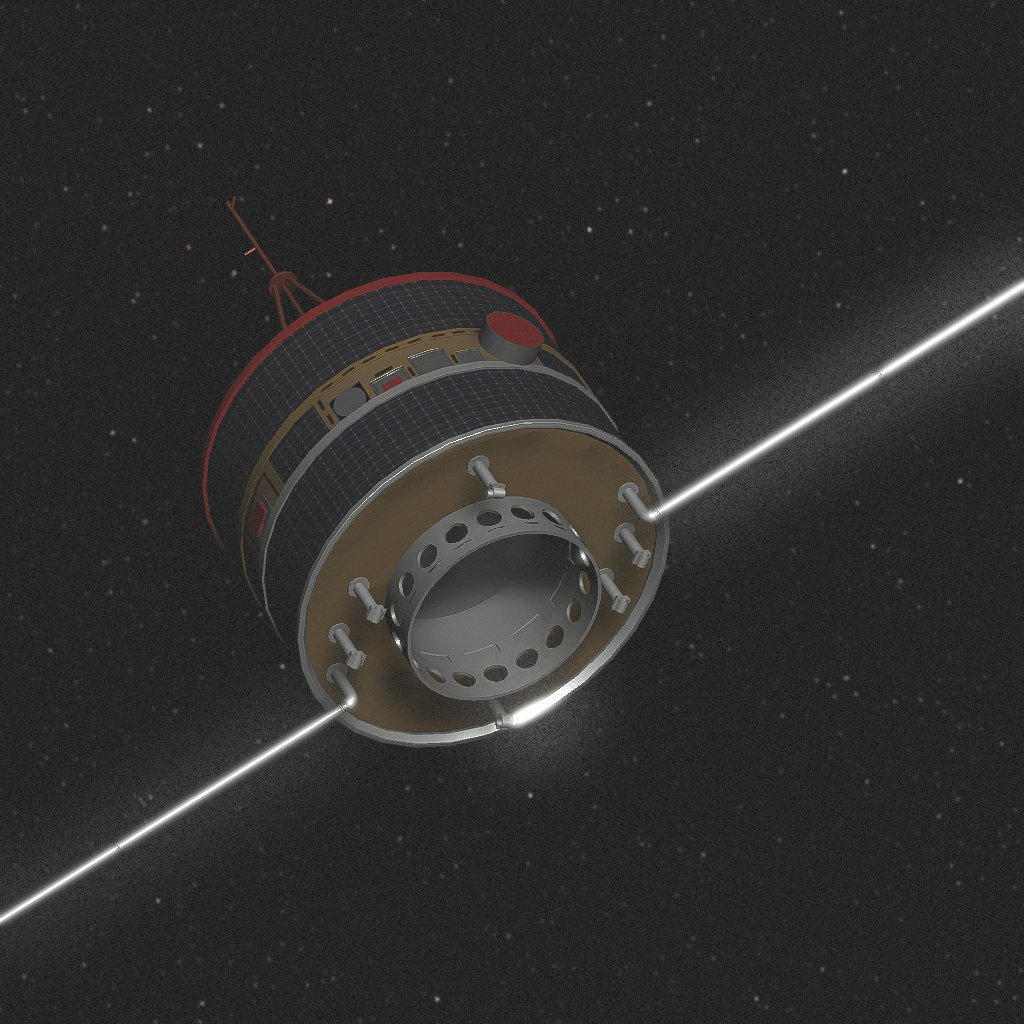double_star: (16, 199, 1001, 911)
